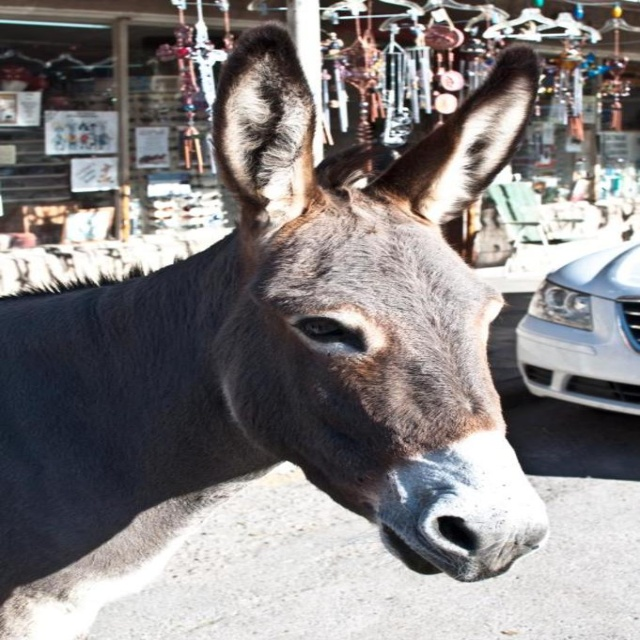Mule: (0, 19, 551, 640)
